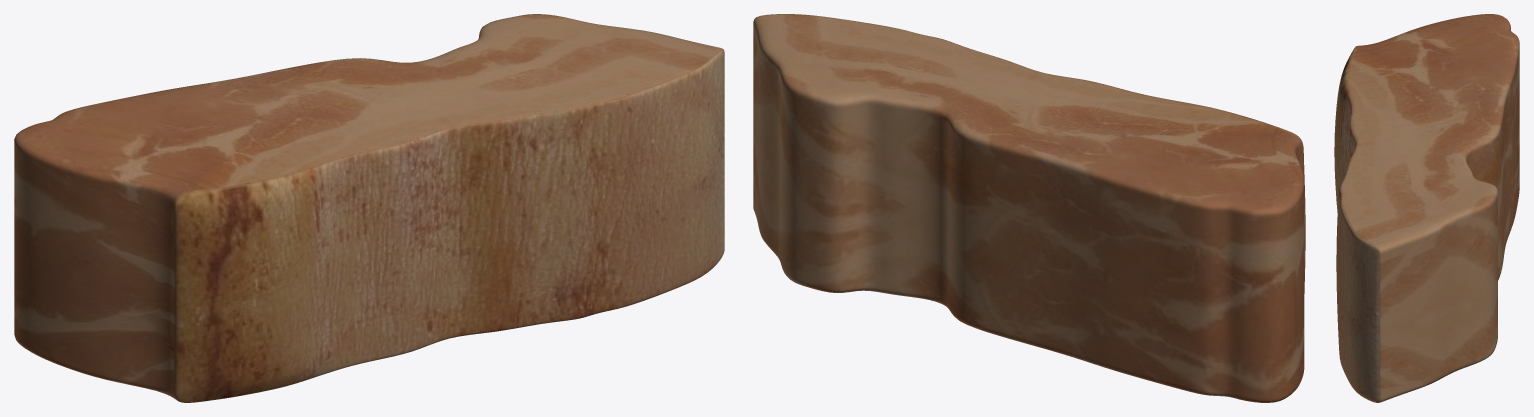
The model's file is ColdCutting3.obj.
The picture shows the model from 3 angles, left to right: view 1: azimuth 30°, elevation 25°; view 2: azimuth 150°, elevation 25°; view 3: azimuth 270°, elevation 25°; orthographic projection. The views are drawn at different scales.
Parts seen in each view (by area): view 1: ColdCutting3; view 2: ColdCutting3; view 3: ColdCutting3.
Part boxes in pixels (box(x1,y1,x2,y2)): ColdCutting3: box(14, 14, 724, 402); ColdCutting3: box(753, 14, 1305, 402); ColdCutting3: box(1334, 14, 1519, 402).
Bounding box in the file's own units: 0.2075 × 0.0689 × 0.0699.
Materials: 1 (1 with a texture image).
